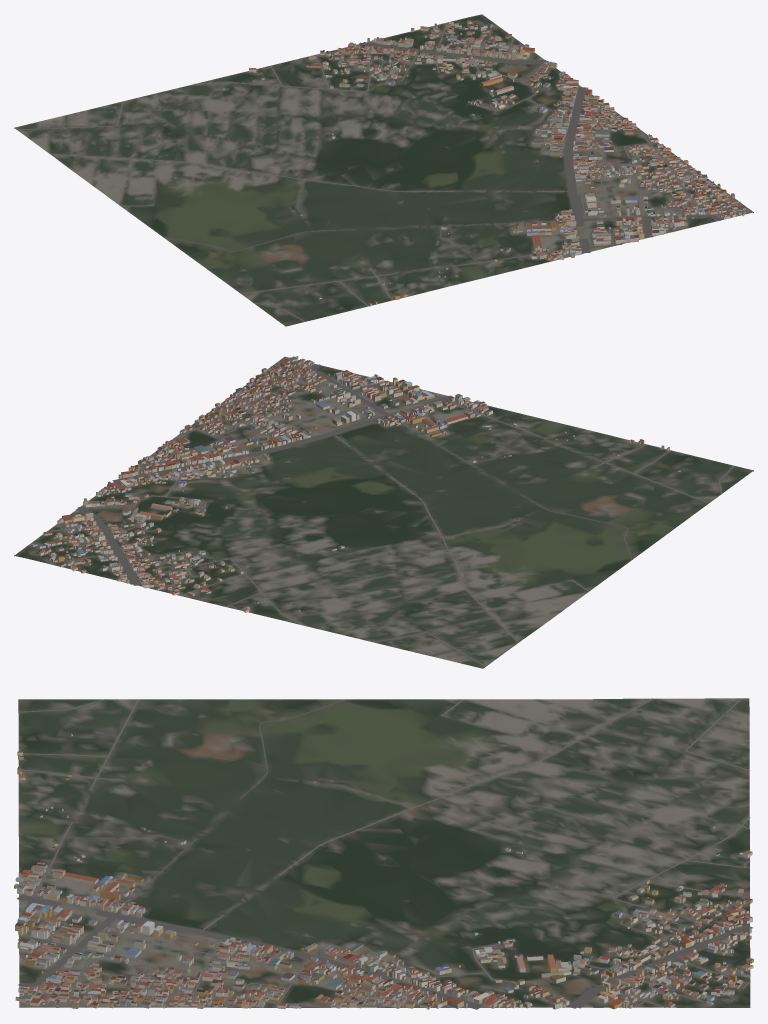
The picture shows the model from 3 angles, top to bottom: view 1: azimuth 30°, elevation 25°; view 2: azimuth 150°, elevation 25°; view 3: azimuth 270°, elevation 25°; orthographic projection. The views are drawn at different scales.
Parts seen in each view (by area): view 1: ground, buildings, roads; view 2: ground, buildings, roads; view 3: ground, buildings, roads.
Part boxes in pixels (x1,y1,x2,y2): ground: [14, 14, 753, 326]; buildings: [223, 20, 745, 306]; roads: [16, 21, 748, 321]; ground: [14, 356, 753, 668]; buildings: [31, 356, 680, 612]; roads: [30, 361, 734, 666]; ground: [18, 698, 750, 1007]; buildings: [14, 733, 753, 1009]; roads: [17, 698, 752, 1009].
Bounding box in the file's own units: 1408 × 25.56 × 1419.
